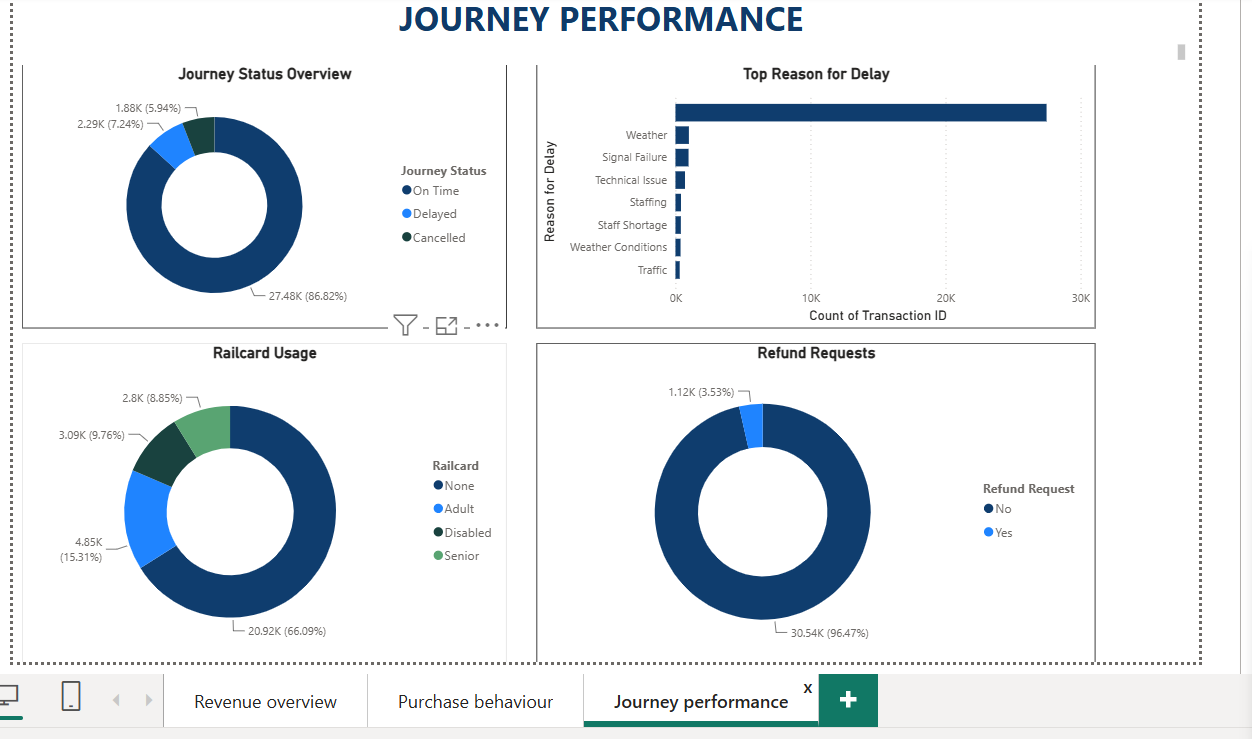

What the dashboard file says about the page in this screenshot:
{"tool":"powerbi","page":{"name":"Journey performance","canvas":[1280,720],"ordinal":2},"visuals":[{"type":"donutChart","title":"Journey Status Overview","fields":{"Category":["Total revenue.Journey Status"],"Y":["CountNonNull(Total revenue.Transaction ID)"]},"box":[10,75,523.3,285],"z":0},{"type":"clusteredBarChart","title":"Top Reason for Delay","fields":{"Category":["Total revenue.Reason for Delay"],"Y":["CountNonNull(Total revenue.Transaction ID)"]},"box":[565,75,603.3,285],"z":1},{"type":"donutChart","title":" Railcard Usage","fields":{"Category":["Total revenue.Railcard"],"Y":["CountNonNull(Total revenue.Transaction ID)"]},"box":[10,375,523.3,345],"z":2},{"type":"donutChart","title":" Refund Requests","fields":{"Category":["Total revenue.Refund Request"],"Y":["CountNonNull(Total revenue.Transaction ID)"]},"box":[565,375,603.3,345],"z":3},{"type":"textbox","title":"JOURNEY PERFORMANCE","box":[0,0,1270,75],"z":4}]}

Visuals, with their boxes on the page's 1280x720 design canvas (x1, y1, x2, y2). These are canvas units, not pixel positions in the 1252x739 screenshot, which may show the page scaled, cropped or inside an application window:
"Journey Status Overview" donutChart: [10, 75, 533, 360]
"Top Reason for Delay" clusteredBarChart: [565, 75, 1168, 360]
" Railcard Usage" donutChart: [10, 375, 533, 720]
" Refund Requests" donutChart: [565, 375, 1168, 720]
"JOURNEY PERFORMANCE" textbox: [0, 0, 1270, 75]
